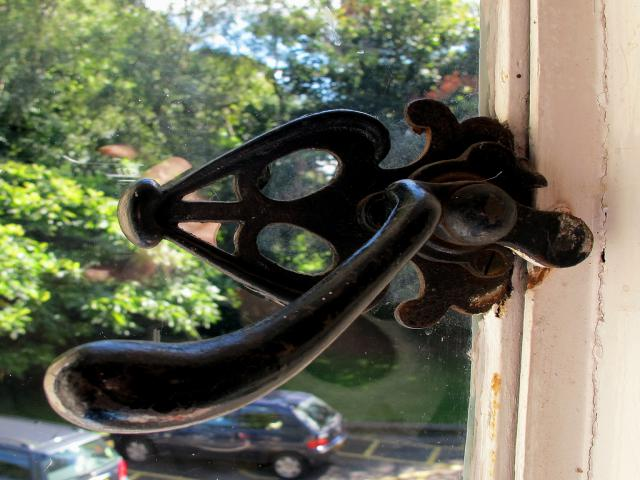Door-handle: (42, 97, 596, 434)
